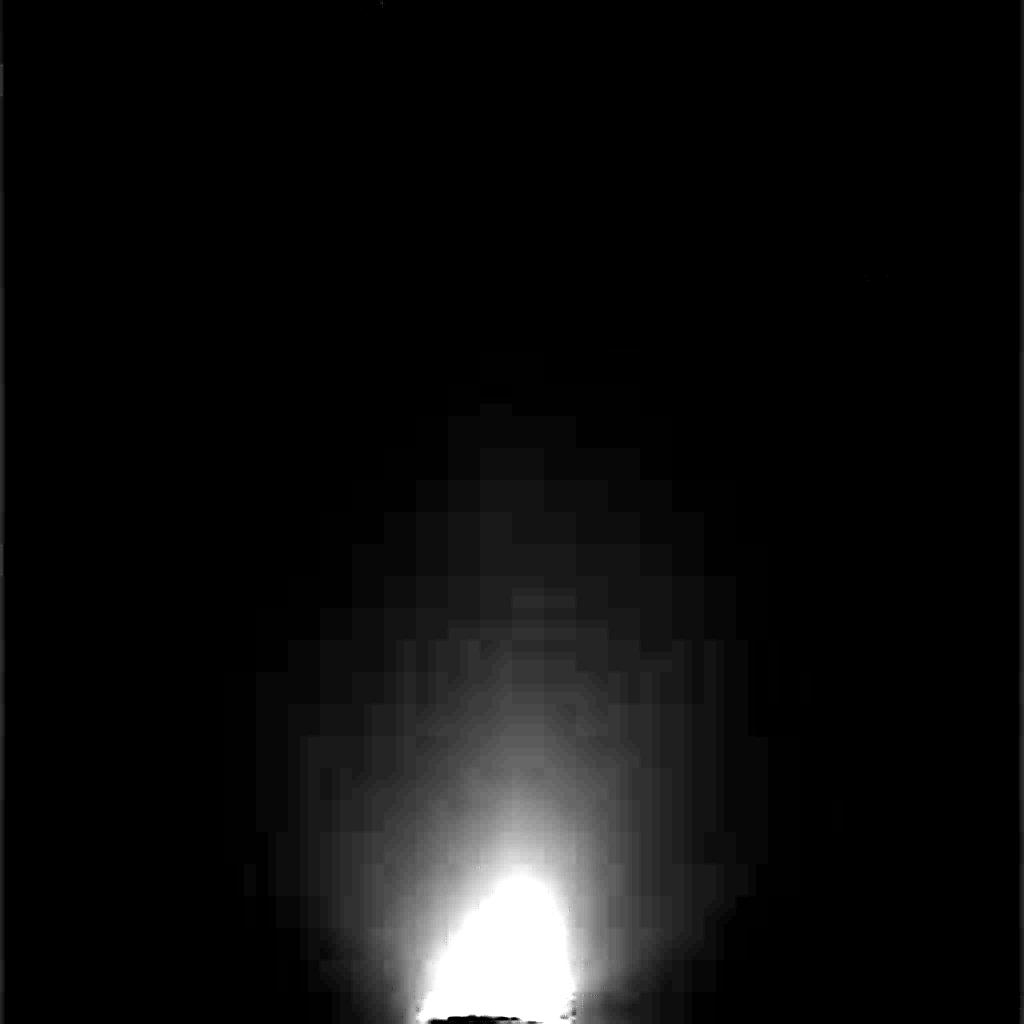plumes: (414, 862, 584, 1023)
